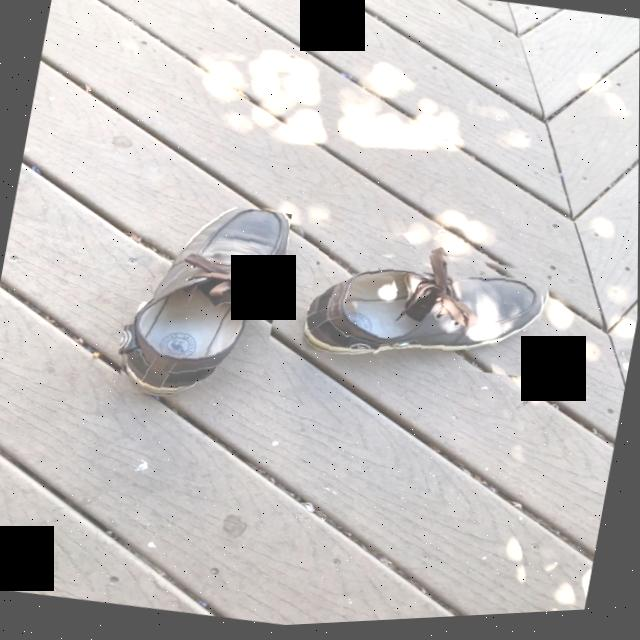shoe: (124, 210, 289, 397), (304, 257, 546, 359)
